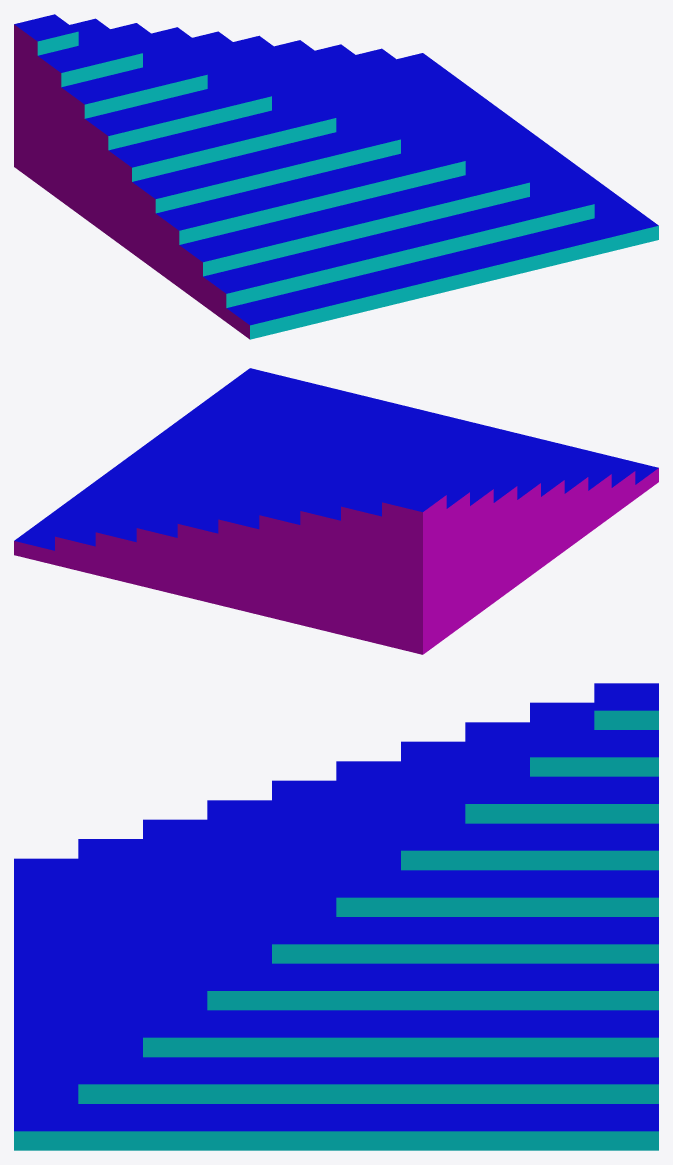
The model's file is Foundation_Stairs_001_Corner_3x3x1.fbx.
The picture shows the model from 3 angles, top to bottom: view 1: azimuth 30°, elevation 25°; view 2: azimuth 150°, elevation 25°; view 3: azimuth 270°, elevation 25°; orthographic projection. The views are drawn at different scales.
Parts seen in each view (by area): view 1: Foundation_Stairs_001_Corner_3x3x1; view 2: Foundation_Stairs_001_Corner_3x3x1; view 3: Foundation_Stairs_001_Corner_3x3x1.
Part boxes in pixels (x1,y1,x2,y2): Foundation_Stairs_001_Corner_3x3x1: [14, 14, 658, 339]; Foundation_Stairs_001_Corner_3x3x1: [14, 368, 658, 654]; Foundation_Stairs_001_Corner_3x3x1: [14, 683, 658, 1150].
Size of the model in its own units: 300 by 100 by 300.
